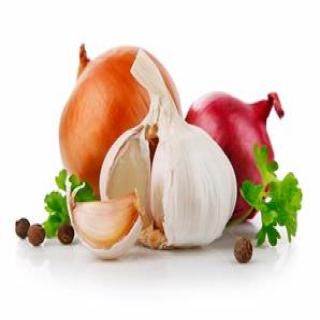Bawang Merah: (16, 42, 302, 263)
